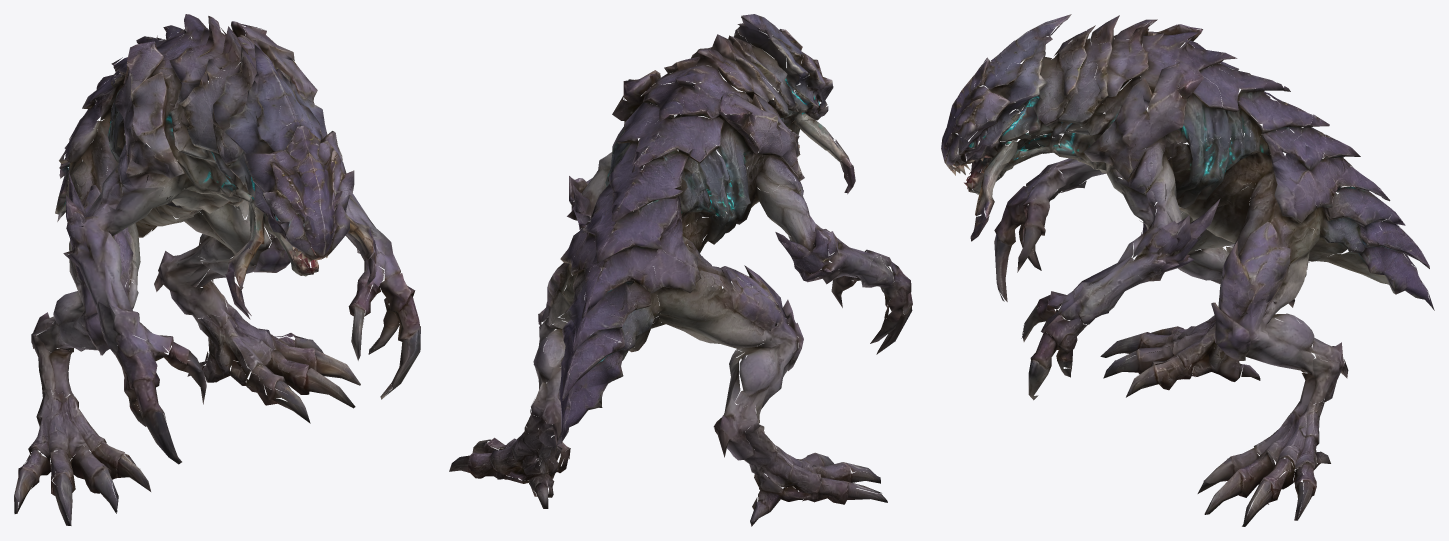
File: alien-pouncer-v1.glb
3 renders of one model, left to right at view 1: azimuth 30°, elevation 25°; view 2: azimuth 150°, elevation 25°; view 3: azimuth 270°, elevation 25°, orthographic. The views are drawn at different scales.
Parts seen in each view (by area): view 1: alien-pouncer; view 2: alien-pouncer; view 3: alien-pouncer.
Part boxes in pixels (x1=…): alien-pouncer: x1=14, y1=14, x2=420, y2=525; alien-pouncer: x1=449, y1=14, x2=912, y2=526; alien-pouncer: x1=941, y1=14, x2=1434, y2=526.
Bounding box in the file's own units: 2.24 × 2.46 × 2.6.
1 material, 1 textured.
